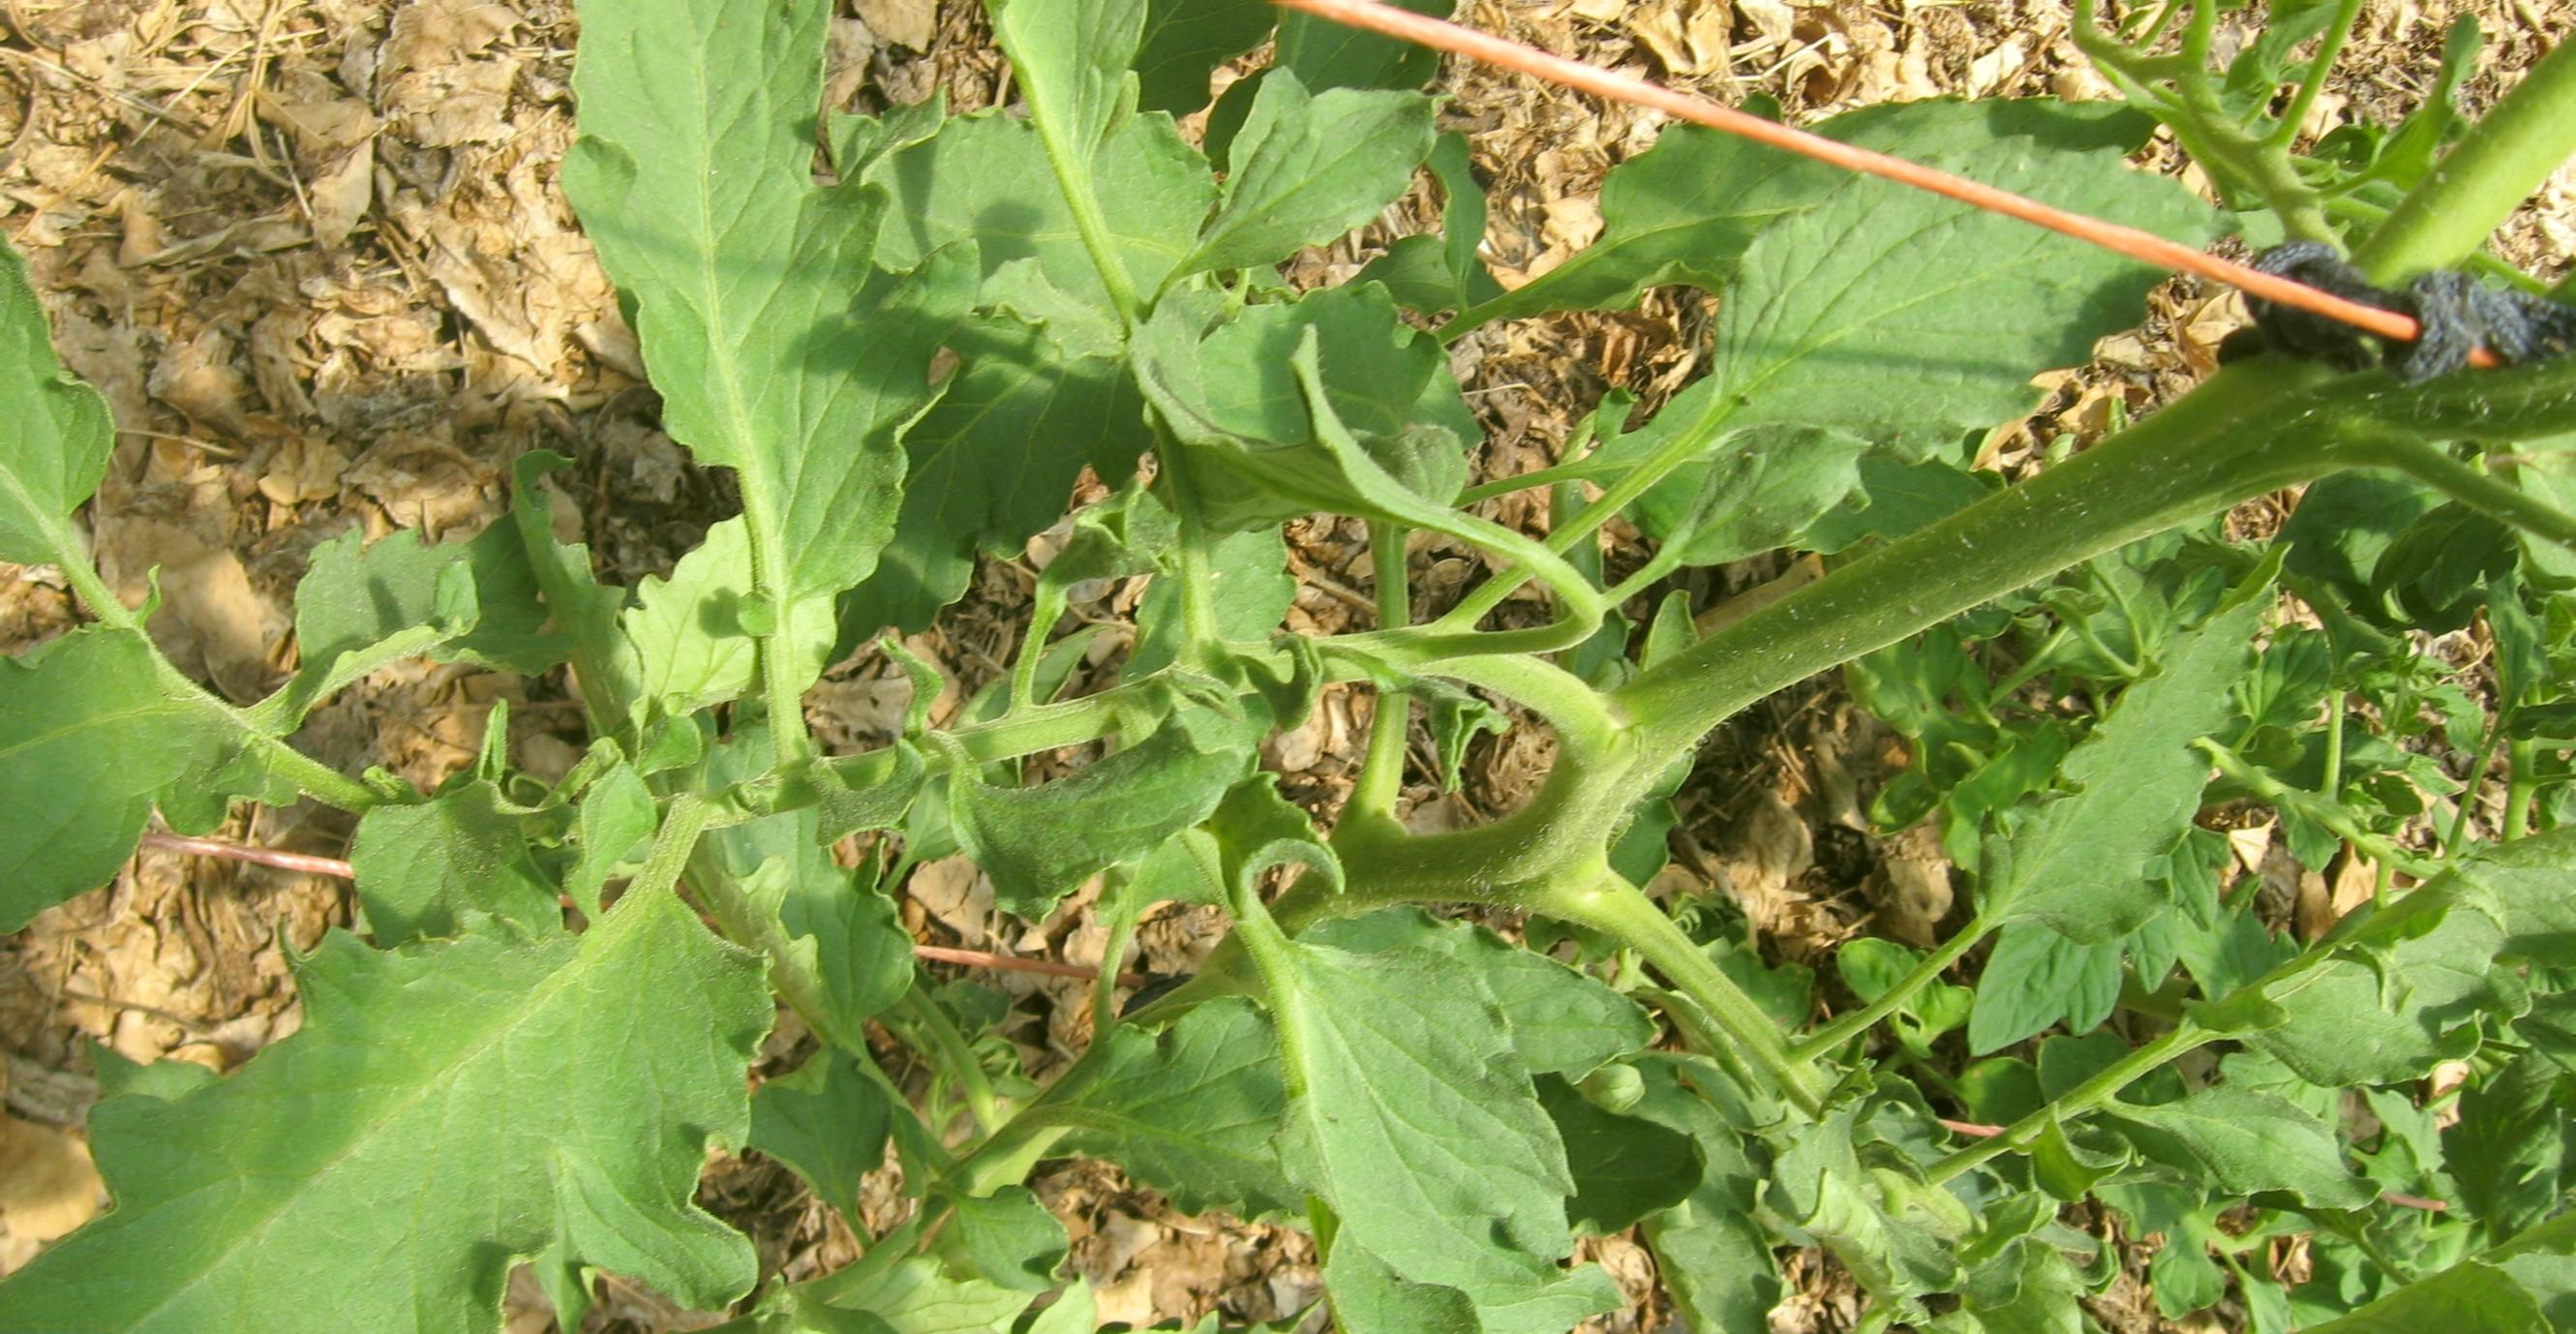Tomato leaf: (48, 796, 750, 1334), (1514, 138, 2241, 565), (546, 0, 977, 609), (953, 0, 1405, 396), (1211, 881, 1528, 1297), (2003, 568, 2319, 926), (259, 507, 589, 727), (0, 196, 140, 602)
